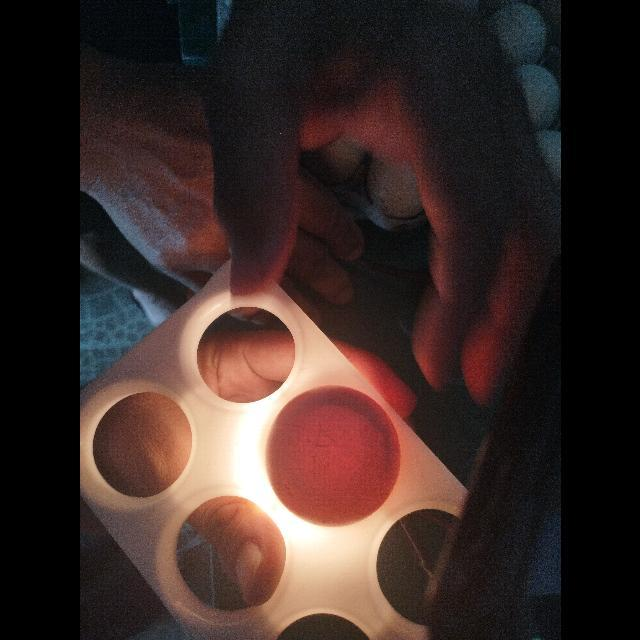Infertile: (264, 384, 401, 528)
